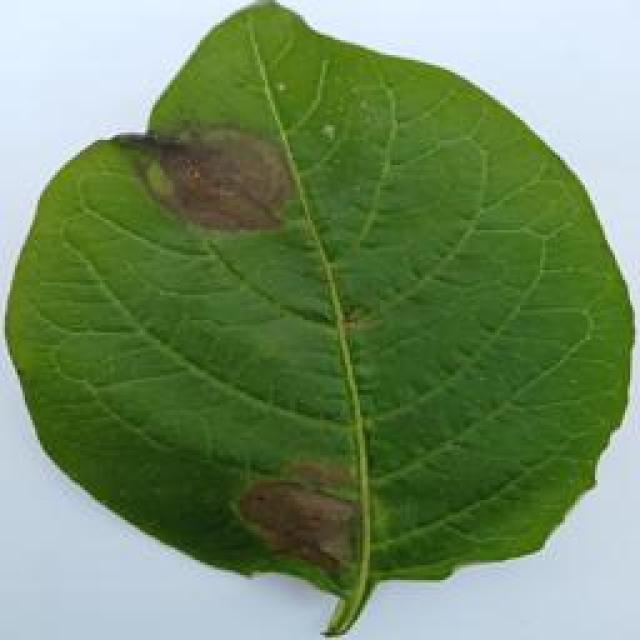Potato_Late_Blight: (8, 2, 623, 630)
